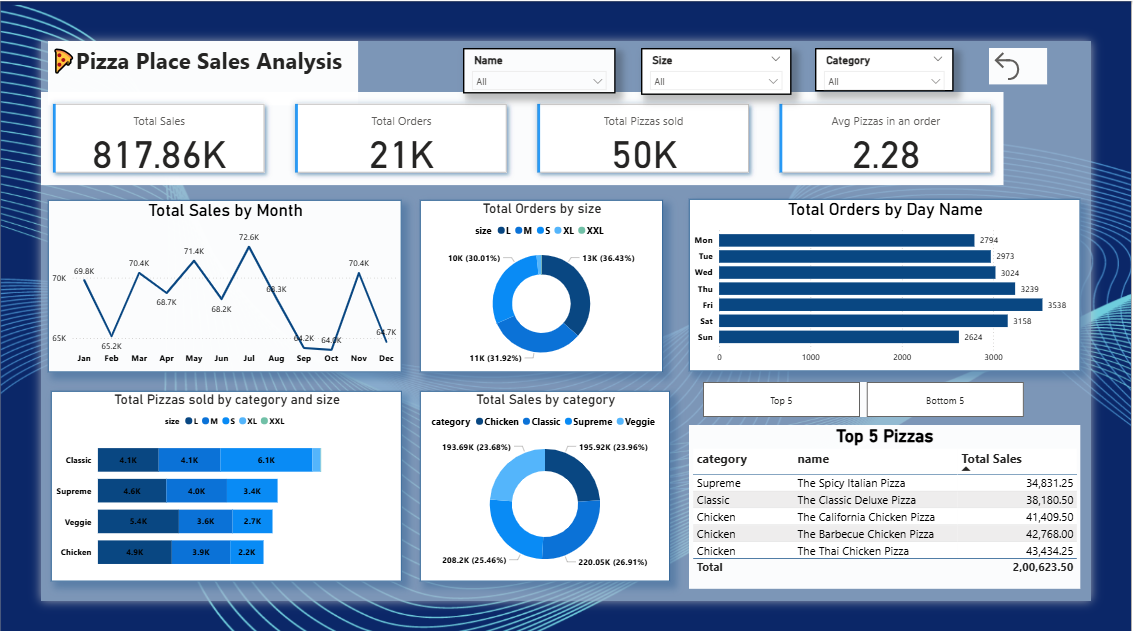

What the dashboard file says about the page in this screenshot:
{"tool":"powerbi","page":{"name":"Pizza Place Sales Analysis","canvas":[1500,800],"ordinal":0},"visuals":[{"type":"textbox","box":[10.1,0,443,92.4],"z":0},{"type":"cardVisual","fields":{"Data":["key measures.Total Sales","key measures.Total Orders","key measures.Total Pizzas sold","key measures.Avg Pizzas in an order"]},"box":[0,72.2,1374.7,132.9],"z":1000},{"type":"lineChart","title":"Total Sales by Month ","fields":{"Category":["calendar.Month Name"],"Y":["key measures.Total Sales"]},"box":[10.1,227.8,505.1,245.6],"z":2000},{"type":"donutChart","fields":{"Y":["key measures.Total Orders"],"Category":["pizzas.size"]},"box":[541.8,227.8,346.8,245.6],"z":3000},{"type":"donutChart","fields":{"Y":["key measures.Total Sales"],"Series":["pizza_types.category"]},"box":[541.8,500,357,272.2],"z":4000},{"type":"barChart","fields":{"Y":["key measures.Total Orders"],"Category":["calendar.Day Name"]},"box":[925.3,225.3,559.5,245.6],"z":5000},{"type":"barChart","fields":{"Y":["key measures.Total Pizzas sold"],"Category":["pizza_types.category"],"Series":["pizzas.size"]},"box":[13.9,500,501.3,272.2],"z":6000},{"type":"tableEx","title":"Top 5 Pizzas","fields":{"Values":["pizza_types.category","pizza_types.name","key measures.Total Sales"]},"box":[925.7,548.6,559.5,233.8],"z":7000},{"type":"bookmarkNavigator","box":[945.9,486.5,458.1,50],"z":9000},{"type":"slicer","fields":{"Values":["pizza_types.name"]},"box":[603.3,10,218.3,65],"z":9001},{"type":"slicer","fields":{"Values":["pizza_types.category"]},"box":[1105,10,198.3,61.7],"z":9002},{"type":"slicer","fields":{"Values":["pizzas.size"]},"box":[856.7,10,215,66.7],"z":9003},{"type":"actionButton","box":[1355,10,83.3,51.7],"z":9004}]}

Visuals, with their boxes on the page's 1500x800 design canvas (x1, y1, x2, y2). These are canvas units, not pixel positions in the 1133x631 screenshot, which may show the page scaled, cropped or inside an application window:
textbox: BBox(10, 0, 453, 92)
cardVisual - key measures.Total Sales x key measures.Total Orders: BBox(0, 72, 1375, 205)
"Total Sales by Month " lineChart: BBox(10, 228, 515, 473)
donutChart - key measures.Total Orders x pizzas.size: BBox(542, 228, 889, 473)
donutChart - key measures.Total Sales x pizza_types.category: BBox(542, 500, 899, 772)
barChart - key measures.Total Orders x calendar.Day Name: BBox(925, 225, 1485, 471)
barChart - key measures.Total Pizzas sold x pizza_types.category: BBox(14, 500, 515, 772)
"Top 5 Pizzas" tableEx: BBox(926, 549, 1485, 782)
bookmarkNavigator: BBox(946, 486, 1404, 536)
slicer - pizza_types.name: BBox(603, 10, 822, 75)
slicer - pizza_types.category: BBox(1105, 10, 1303, 72)
slicer - pizzas.size: BBox(857, 10, 1072, 77)
actionButton: BBox(1355, 10, 1438, 62)
